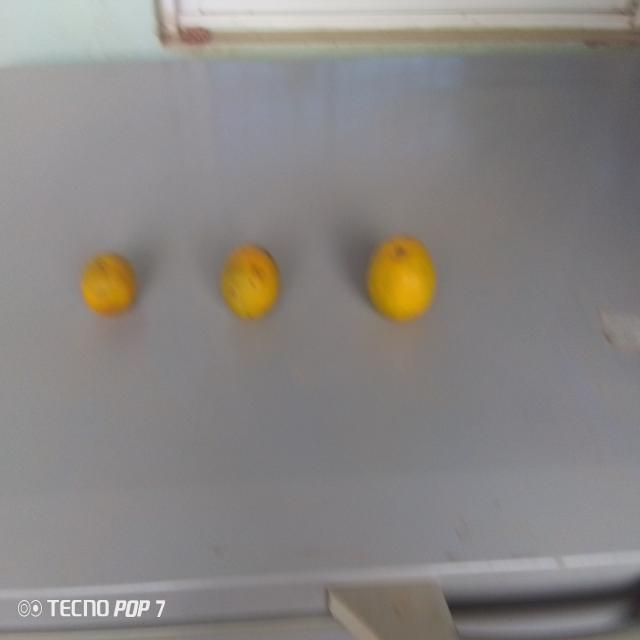Ripe orange: (362, 232, 439, 326), (217, 239, 291, 332), (78, 240, 150, 316)
